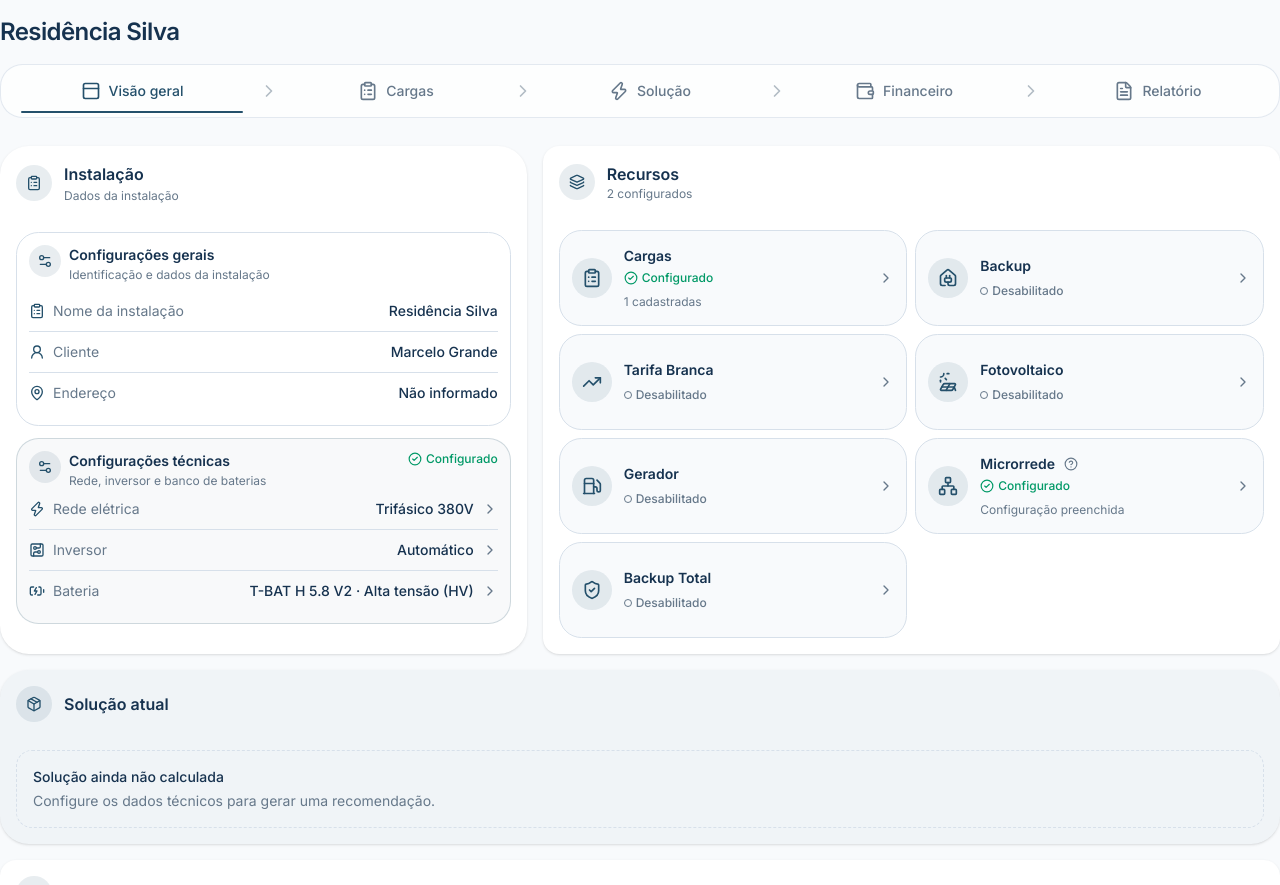
Test: ProjectWorkspace › keeps the Microgrid help icon inline with its title without card padding
The image size is (1280, 885).
Expected: the element showing "Microrrede" is shown, [980,454,1081,474]
Click the button named "Saiba mais sobre Microrrede": click(1071, 464) [1061,454,1081,474]
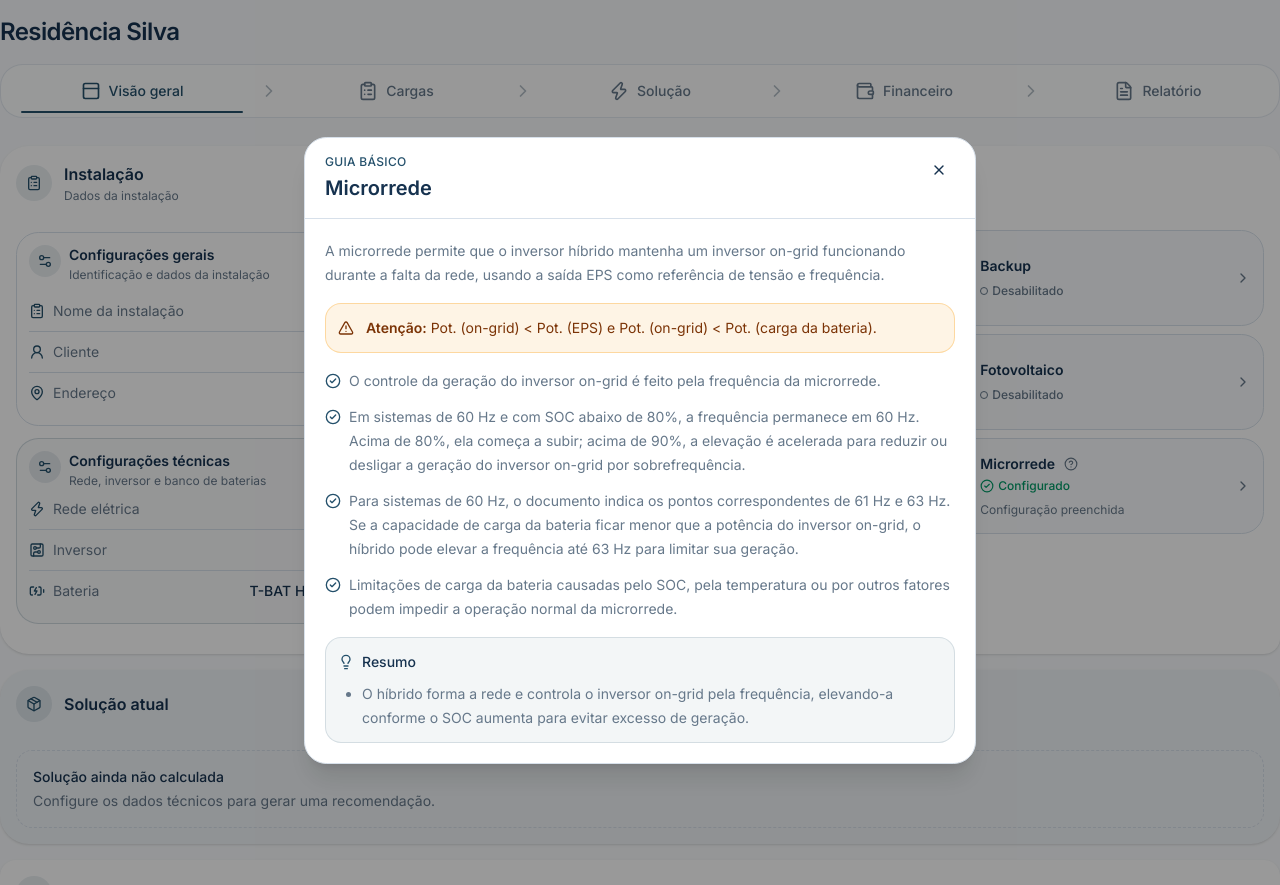
Now the dialog is shown, box [304,136,976,764]
